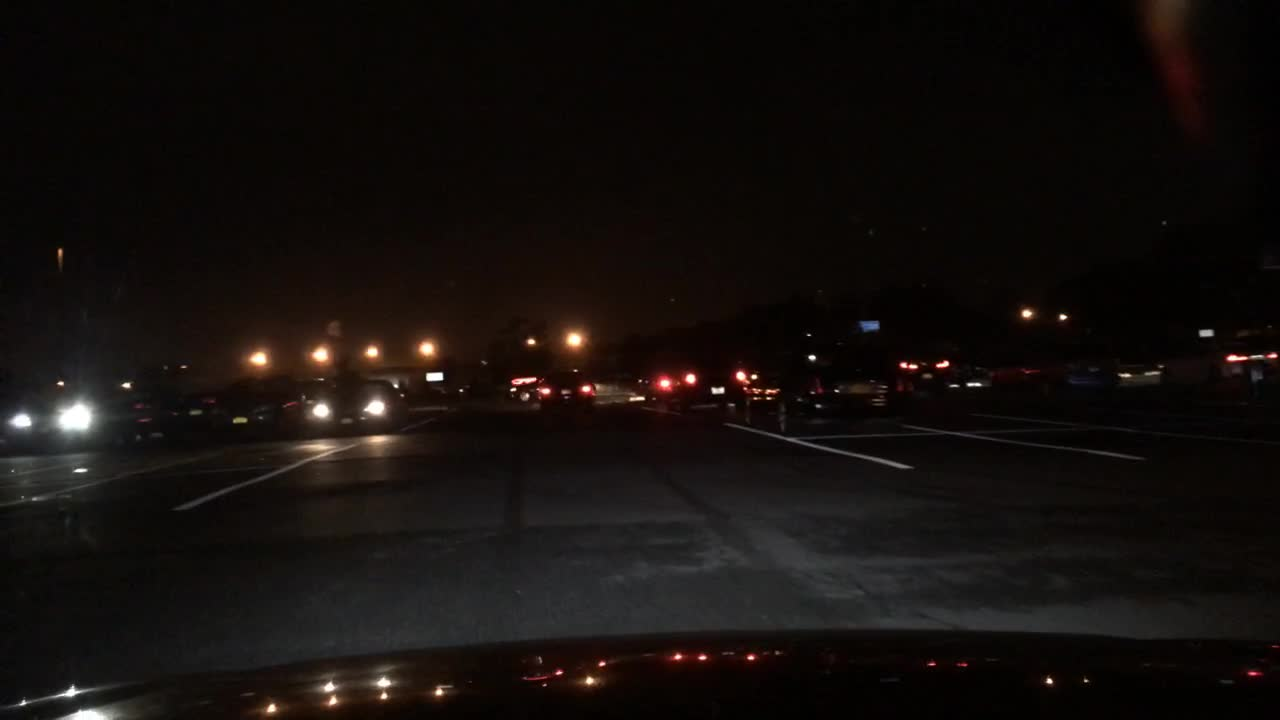car: (730, 333, 898, 436), (6, 386, 169, 446), (305, 380, 410, 440), (215, 375, 307, 440), (1058, 348, 1168, 395), (1217, 333, 1279, 397), (917, 359, 995, 399), (539, 370, 594, 412), (639, 369, 697, 407), (699, 368, 735, 407), (498, 376, 538, 411), (181, 392, 211, 434), (266, 514, 279, 520)
